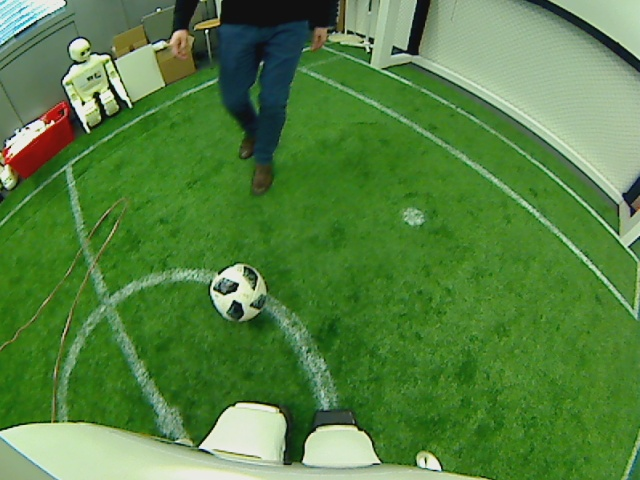ball: (208, 259, 269, 324)
